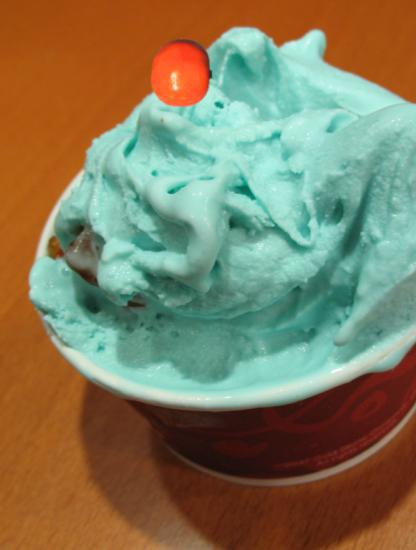Clementine: (147, 38, 217, 108)
